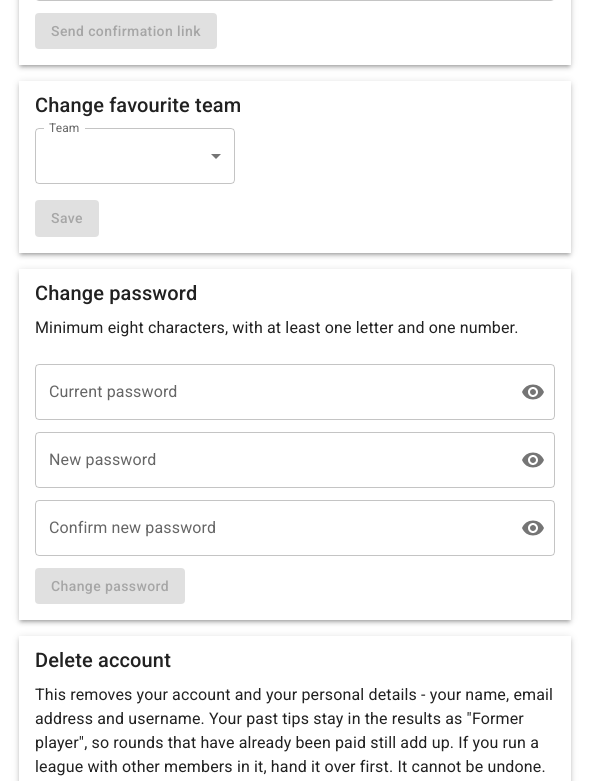
Test: changing your password › the new one typed the same twice
The width and height of the screenshot is (591, 781).
(page scrolled)
Step 1. Type "Passw0rd1" into the 2nd password field labelled "Current password" → (270, 392), box [35,364,505,420]
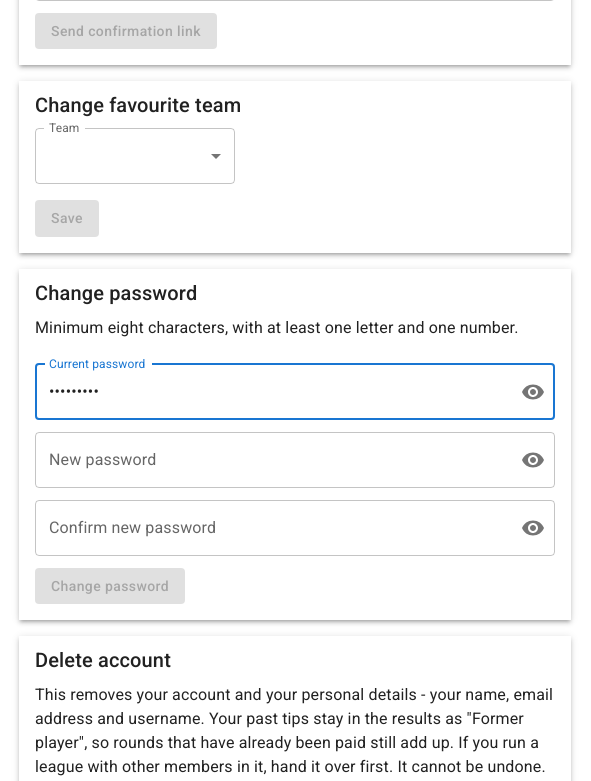
Step 2. Type "N3wpassword" into the password field labelled "New password" → (270, 460), box [35,432,505,488]
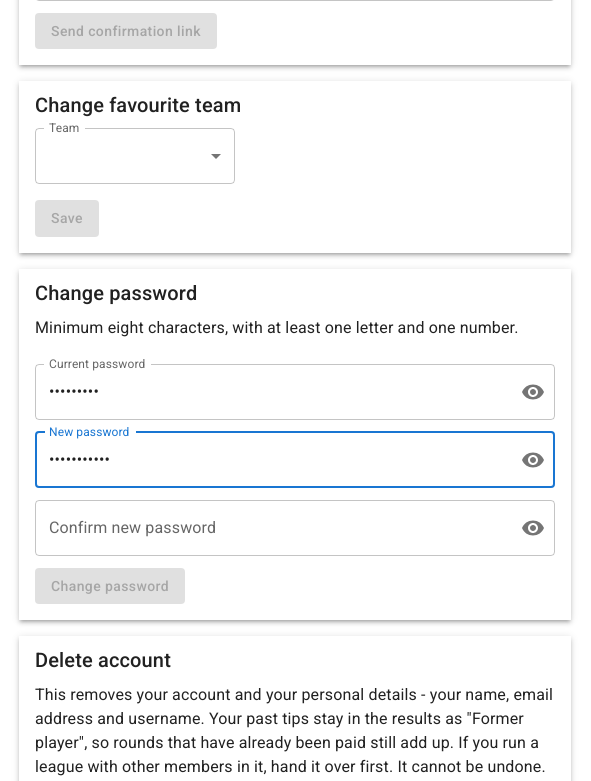
Step 3. Type "N3wpasswrod" into the password field labelled "Confirm new password" → (270, 528), box [35,500,505,556]
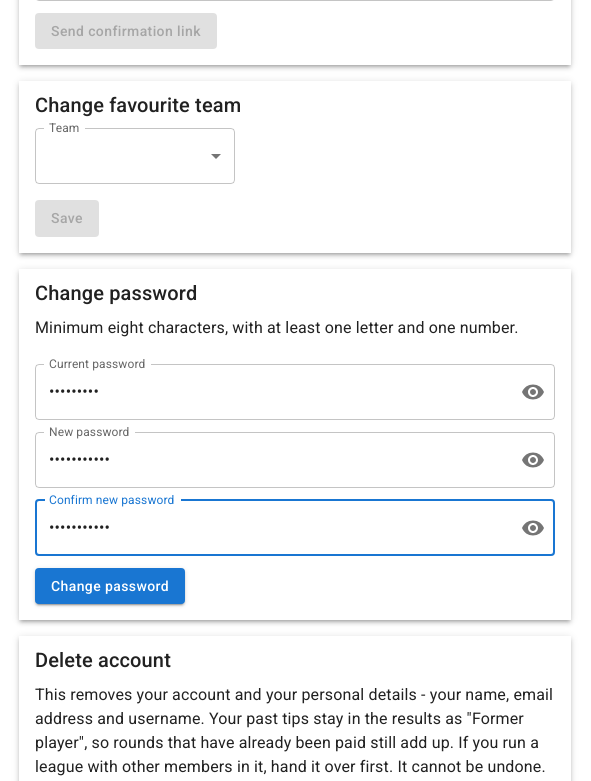
Step 4. Click the button "Change password" → (110, 586), box [35,568,185,604]
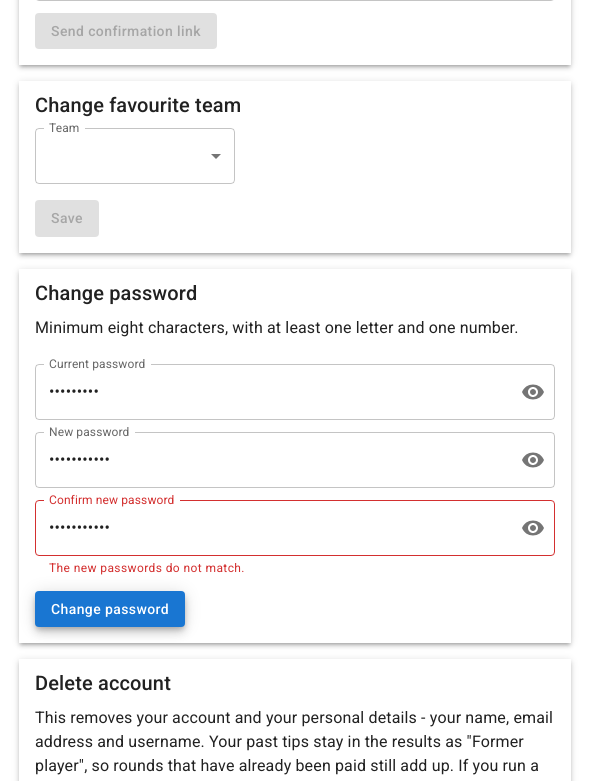
Expected: the text "The new passwords do not match." is shown, [49,561,245,575]
